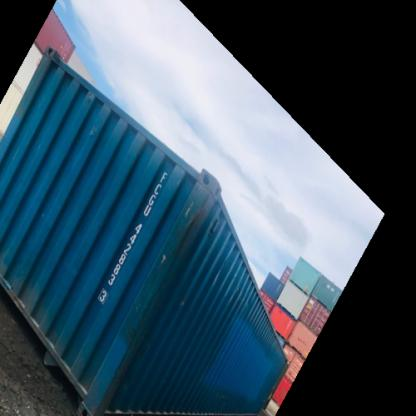Damage: (176, 188, 216, 261), (235, 278, 257, 314), (206, 268, 228, 299), (148, 248, 170, 263)
